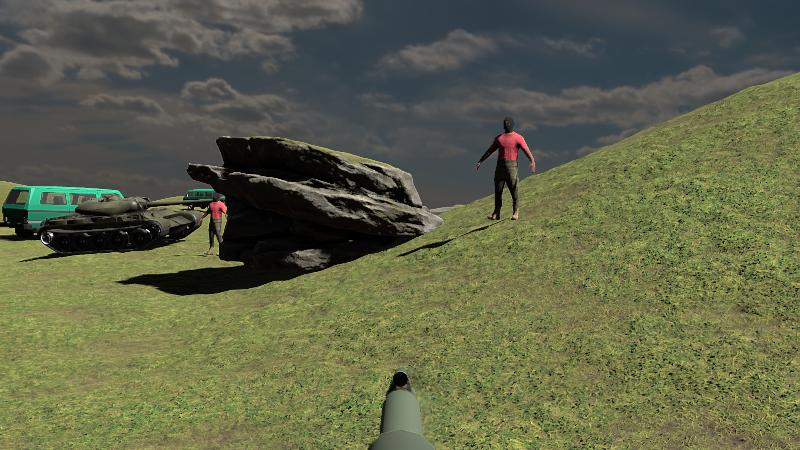Human: (477, 116, 535, 221), (202, 192, 228, 257)
Tank: (38, 195, 226, 254)
car: (2, 186, 125, 239)
